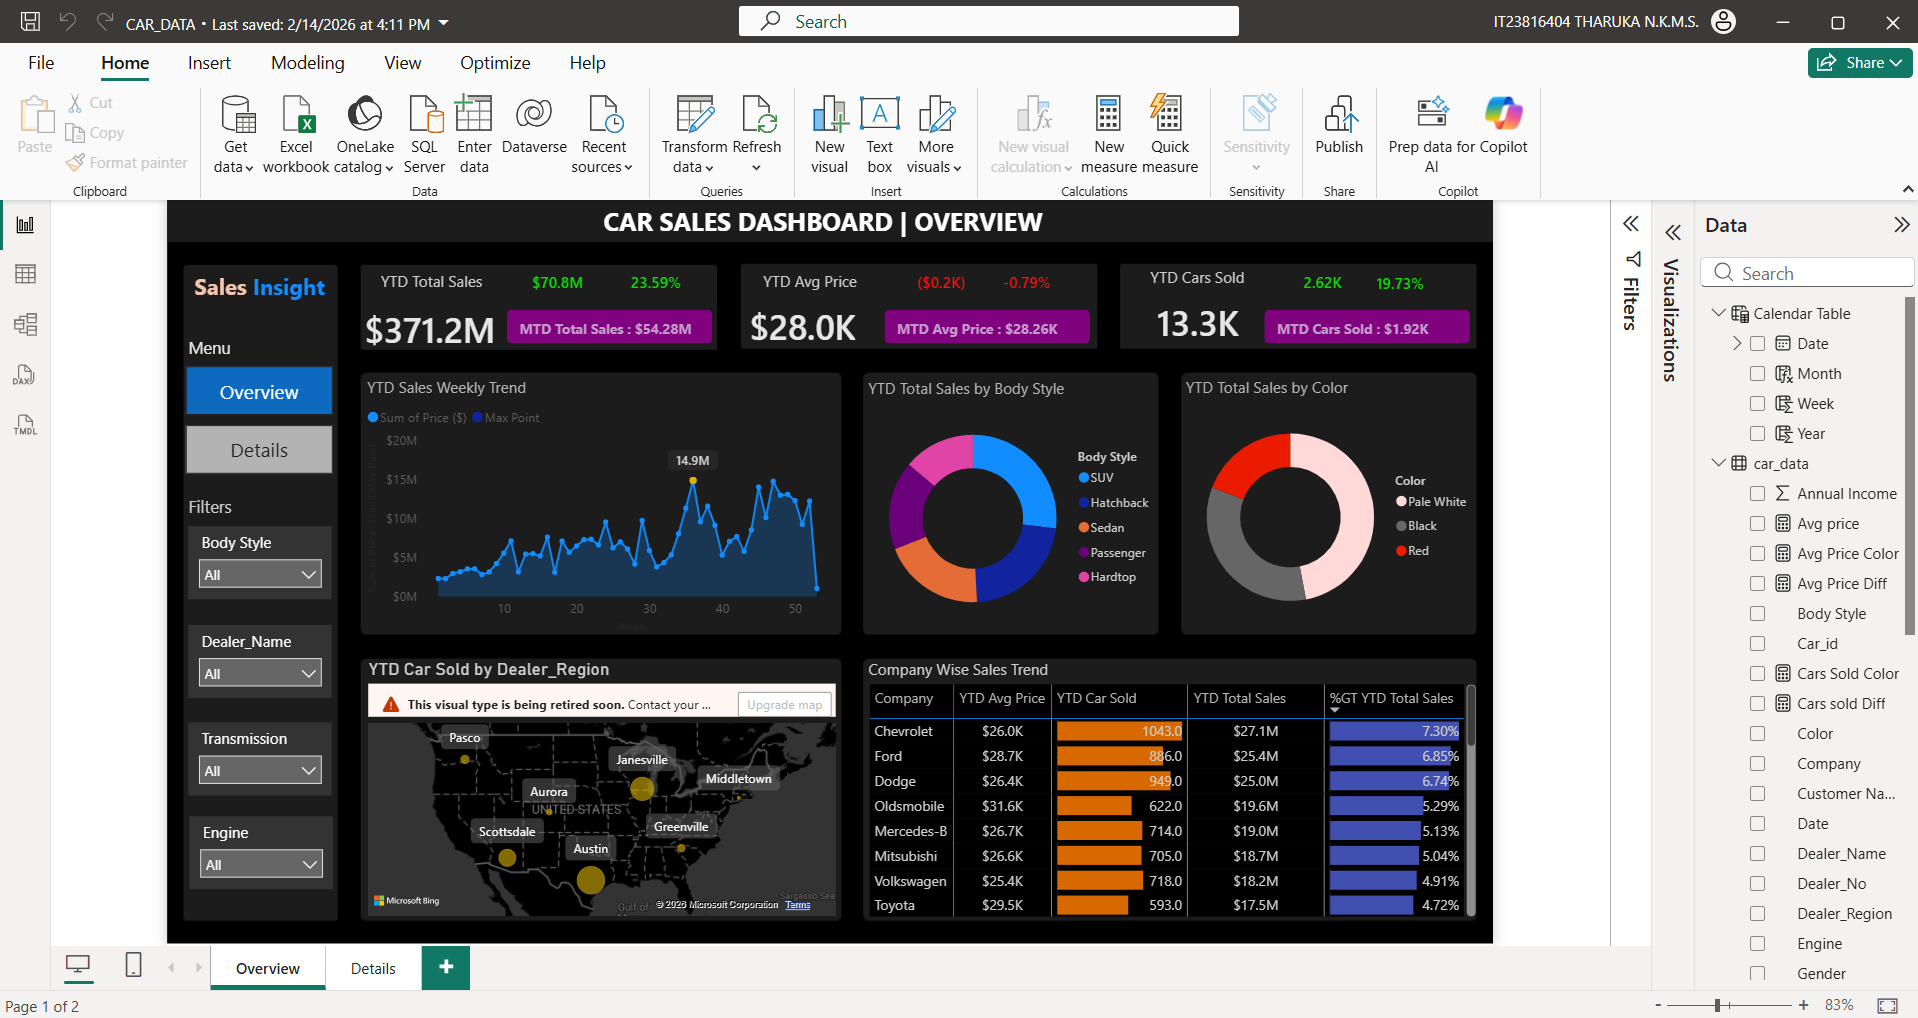

This screenshot's page, from the dashboard's own definition file:
{"tool":"powerbi","page":{"name":"Overview","canvas":[1280,720],"ordinal":0},"visuals":[{"type":"cardVisual","title":"YTD Total Sales","fields":{"Data":["car_data.YTD Total Sales"]},"box":[161.2,67.5,187.5,90],"z":0},{"type":"cardVisual","fields":{"Data":["car_data.Sales Difference"]},"box":[323.8,50,113.8,56.2],"z":1000},{"type":"cardVisual","fields":{"Data":["car_data.YoY Sales Growth"]},"box":[418.8,50,113.8,56.2],"z":2000},{"type":"cardVisual","fields":{"Data":["car_data.MTD KPI"]},"box":[323.8,101,208.8,42.5],"z":3000},{"type":"cardVisual","title":"YTD Avg Price","fields":{"Data":["car_data.YTD Avg Price"]},"box":[532.9,67.1,175,85],"z":4000},{"type":"cardVisual","fields":{"Data":["car_data.Avg Price Diff"]},"box":[675,50,146.2,56.2],"z":5000},{"type":"cardVisual","fields":{"Data":["car_data.YoY Avg Price Growth"]},"box":[777.5,50,106.2,56.2],"z":6000},{"type":"cardVisual","fields":{"Data":["car_data.MTD Avg Price KPI"]},"box":[687.5,101,208.8,42.5],"z":7000},{"type":"cardVisual","title":"YTD Cars Sold","fields":{"Data":["car_data.YTD Car Sold"]},"box":[907.5,63.8,175,85],"z":8000},{"type":"cardVisual","fields":{"Data":["car_data.Cars sold Diff"]},"box":[1042.5,50,146.2,56.2],"z":9000},{"type":"cardVisual","fields":{"Data":["car_data.YoY Car Sold Growth"]},"box":[1100,51.2,180,56.2],"z":10000},{"type":"cardVisual","fields":{"Data":["car_data.MTD Cars Sold KPI"]},"box":[1055,101.2,208.8,42.5],"z":11000},{"type":"areaChart","title":"YTD Sales Weekly Trend","fields":{"Category":["Calendar Table.Week"],"Y":["Sum(car_data.Price ($))","car_data.Max Point"]},"box":[188.8,170,461.2,252.5],"z":12000},{"type":"donutChart","fields":{"Category":["car_data.Body Style"],"Y":["car_data.YTD Total Sales"]},"box":[672.5,171.2,290,252.5],"z":13000},{"type":"donutChart","fields":{"Y":["car_data.YTD Total Sales"],"Category":["car_data.Color"]},"box":[978.8,170,290,252.5],"z":14000},{"type":"map","fields":{"Category":["car_data.Dealer_Region"],"Size":["car_data.YTD Car Sold"]},"box":[188.9,442.2,461.1,253.3],"z":15000},{"type":"tableEx","title":"Company Wise Sales Trend","fields":{"Values":["car_data.Company","car_data.YTD Avg Price","car_data.YTD Car Sold","car_data.YTD Total Sales","Divide(car_data.YTD Total Sales, ScopedEval(car_data.YTD Total Sales, []))"]},"box":[672.5,442.5,596.2,253.8],"z":16000},{"type":"textbox","box":[416.2,0,555,50],"z":17000},{"type":"slicer","fields":{"Values":["car_data.Body Style"]},"box":[20,315,138.8,70],"z":18000},{"type":"slicer","fields":{"Values":["car_data.Dealer_Name"]},"box":[20,410,138.8,70],"z":19000},{"type":"slicer","fields":{"Values":["car_data.Transmission"]},"box":[20,503.8,138.8,70],"z":20000},{"type":"slicer","fields":{"Values":["car_data.Engine"]},"box":[21.2,595,138.8,70],"z":21000},{"type":"textbox","box":[16.2,280,150,32.5],"z":22000},{"type":"textbox","box":[14.3,64.3,150,55.7],"z":23000},{"type":"textbox","box":[15.7,127.1,128.6,32.9],"z":24000},{"type":"pageNavigator","box":[18.6,160,142.9,105.7],"z":25000}]}

Visuals, with their boxes on the page's 1280x720 design canvas (x1, y1, x2, y2). These are canvas units, not pixel positions in the 1918x1018 screenshot, which may show the page scaled, cropped or inside an application window:
"YTD Total Sales" cardVisual: <box>161,68,349,158</box>
cardVisual - car_data.Sales Difference: <box>324,50,438,106</box>
cardVisual - car_data.YoY Sales Growth: <box>419,50,533,106</box>
cardVisual - car_data.MTD KPI: <box>324,101,533,144</box>
"YTD Avg Price" cardVisual: <box>533,67,708,152</box>
cardVisual - car_data.Avg Price Diff: <box>675,50,821,106</box>
cardVisual - car_data.YoY Avg Price Growth: <box>778,50,884,106</box>
cardVisual - car_data.MTD Avg Price KPI: <box>688,101,896,144</box>
"YTD Cars Sold" cardVisual: <box>908,64,1082,149</box>
cardVisual - car_data.Cars sold Diff: <box>1042,50,1189,106</box>
cardVisual - car_data.YoY Car Sold Growth: <box>1100,51,1280,107</box>
cardVisual - car_data.MTD Cars Sold KPI: <box>1055,101,1264,144</box>
"YTD Sales Weekly Trend" areaChart: <box>189,170,650,422</box>
donutChart - car_data.Body Style x car_data.YTD Total Sales: <box>672,171,962,424</box>
donutChart - car_data.YTD Total Sales x car_data.Color: <box>979,170,1269,422</box>
map - car_data.Dealer_Region x car_data.YTD Car Sold: <box>189,442,650,696</box>
"Company Wise Sales Trend" tableEx: <box>672,442,1269,696</box>
textbox: <box>416,0,971,50</box>
slicer - car_data.Body Style: <box>20,315,159,385</box>
slicer - car_data.Dealer_Name: <box>20,410,159,480</box>
slicer - car_data.Transmission: <box>20,504,159,574</box>
slicer - car_data.Engine: <box>21,595,160,665</box>
textbox: <box>16,280,166,312</box>
textbox: <box>14,64,164,120</box>
textbox: <box>16,127,144,160</box>
pageNavigator: <box>19,160,162,266</box>
